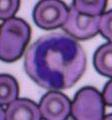N: (24, 32, 86, 90)
